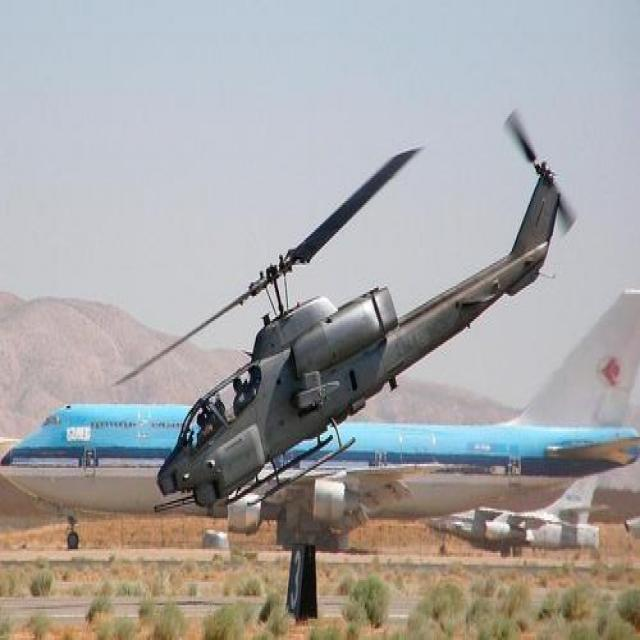MIL_HELO: (106, 110, 601, 545)
